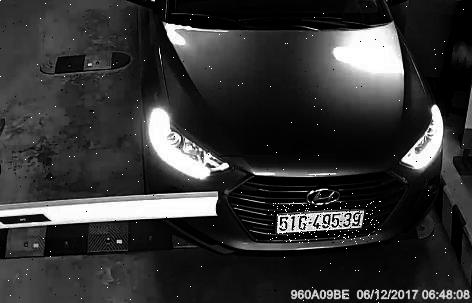License-plate: (270, 202, 383, 244)
